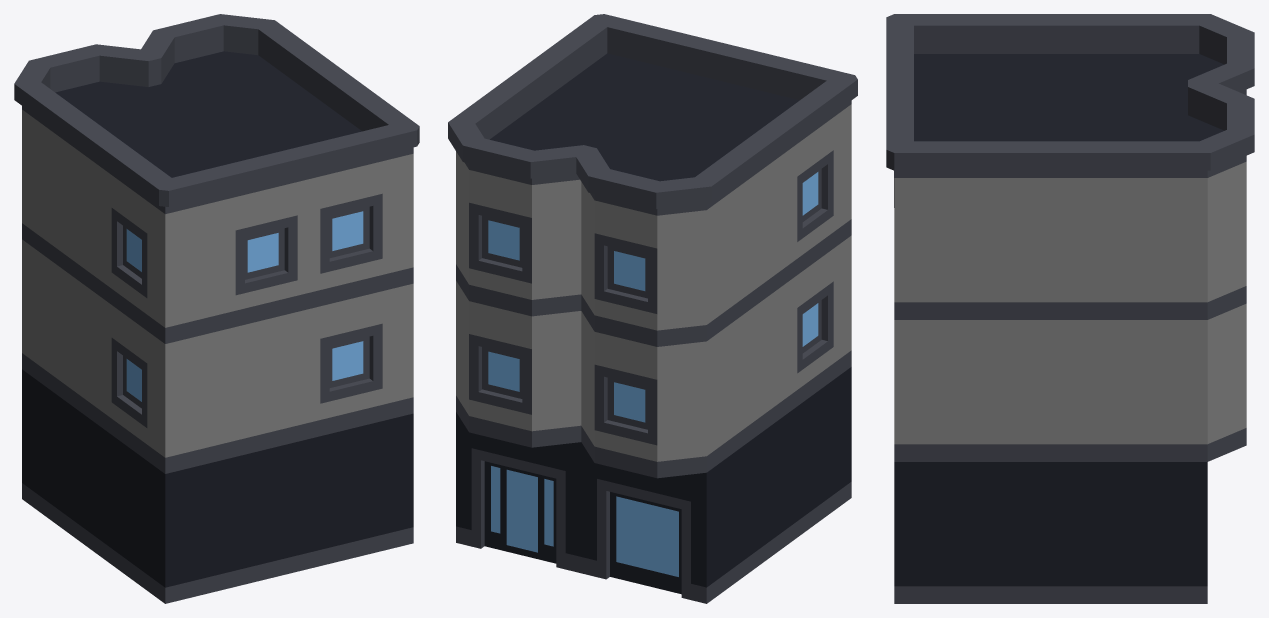
File: variant_3.obj
3 renders of one model, left to right at view 1: azimuth 30°, elevation 25°; view 2: azimuth 150°, elevation 25°; view 3: azimuth 270°, elevation 25°, orthographic. The views are drawn at different scales.
Visible parts, largest first — view 1: Building_copy, Window_copy; view 2: Building_copy; view 3: Building_copy.
Boxes of the visible parts, x1,y1,x2,y2 form: Building_copy: (14,14,419,603); Window_copy: (235,215,297,295); Building_copy: (448,14,857,603); Building_copy: (886,14,1254,603).
Bounding box in the file's own units: 0.84 × 1.28 × 0.94.
